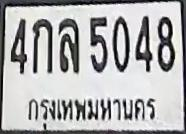0: (112, 16, 130, 73)
4: (135, 15, 152, 72), (10, 18, 27, 74)
5: (89, 16, 107, 73)
8: (157, 16, 175, 72)
A01: (32, 18, 53, 74)
A36: (58, 17, 80, 74)
BKK: (23, 93, 159, 131)
